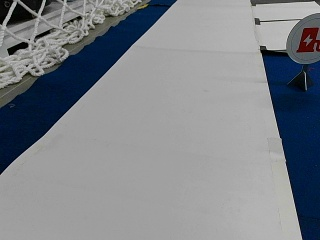battery: (287, 12, 320, 64)
